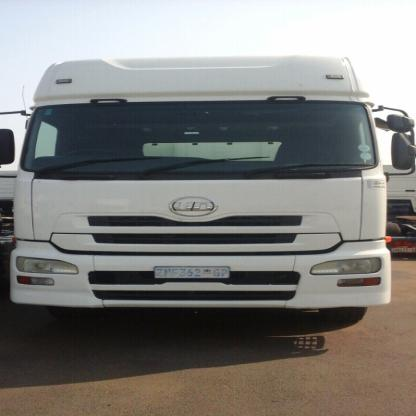dump_truck: (13, 39, 415, 349)
